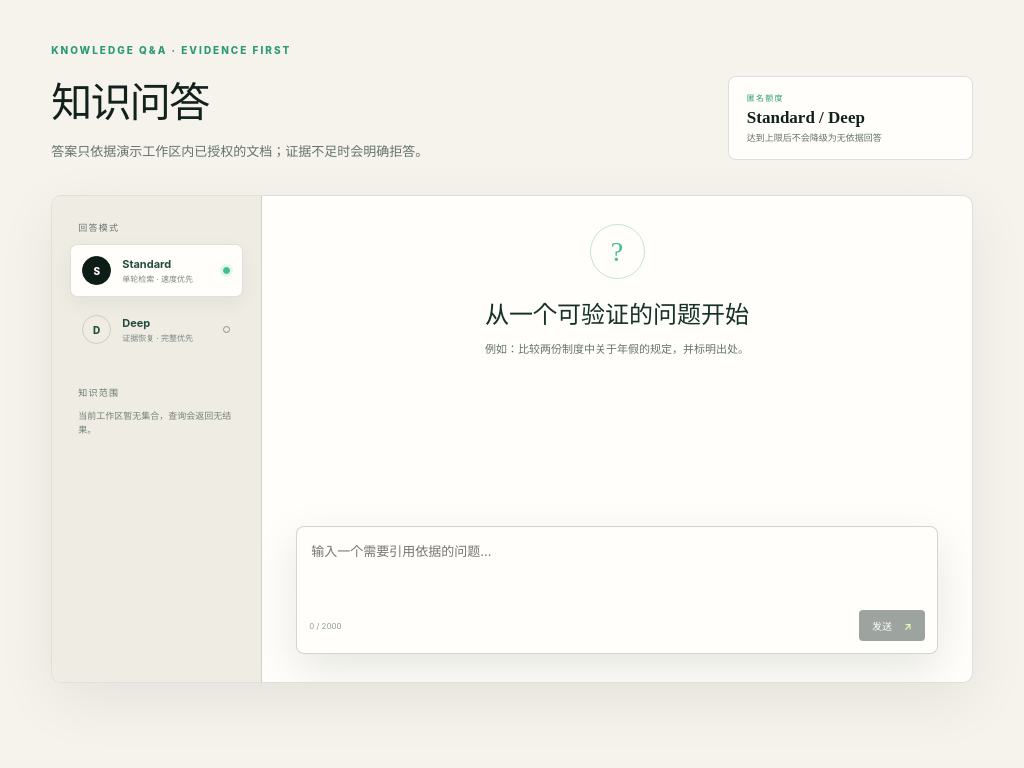
Test case: public chat browser states › aborts once and does not reconnect after the user stops a stream
The image size is (1024, 768).
Type "停止测试" into the text box with placeholder "输入一个需要引用依据的问题…" at (617, 572), box [309,539,925,605]
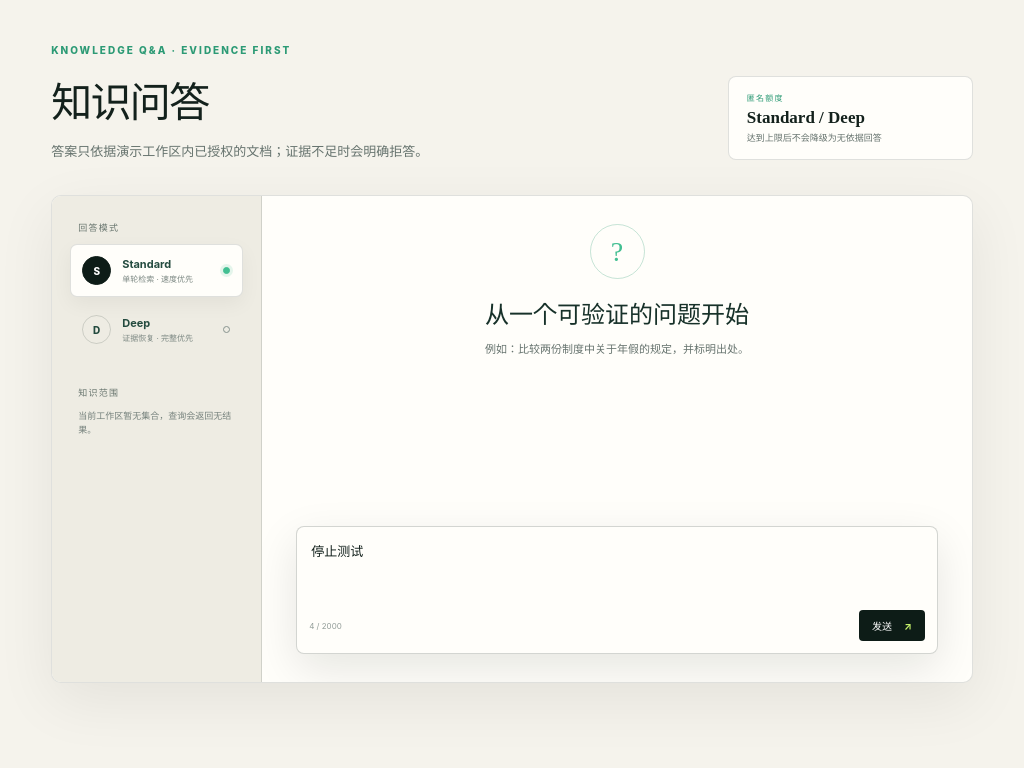
Submit the form, box [296,526,938,654]
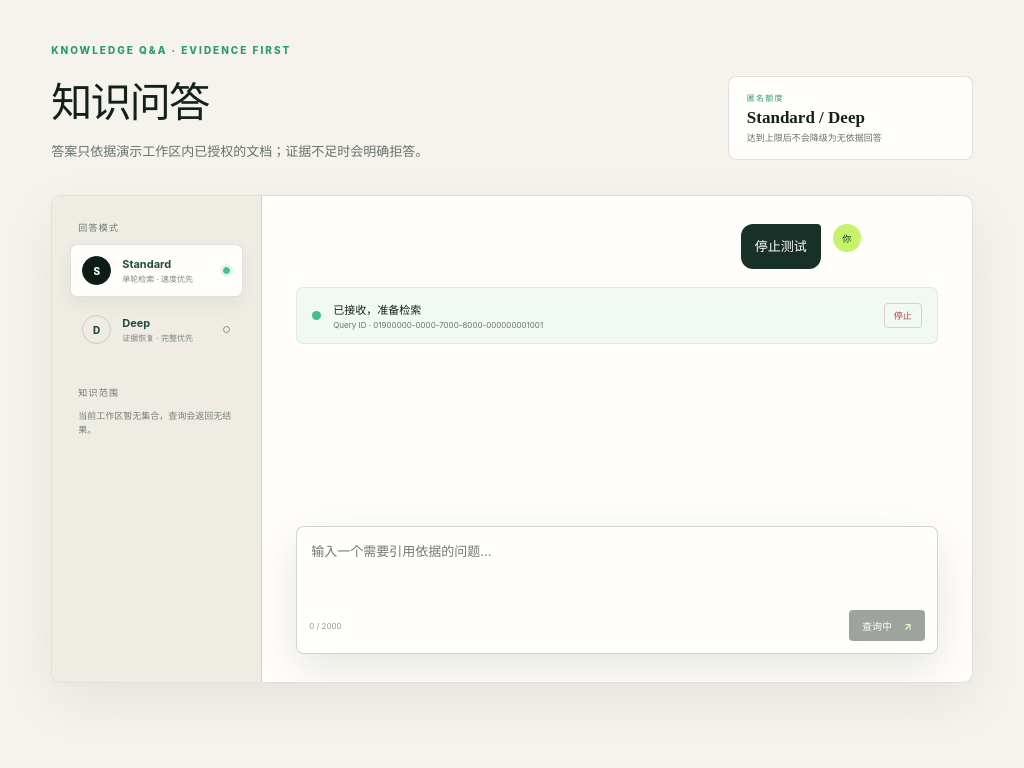
Click the button "停止" at (903, 315), box [884,303,922,328]
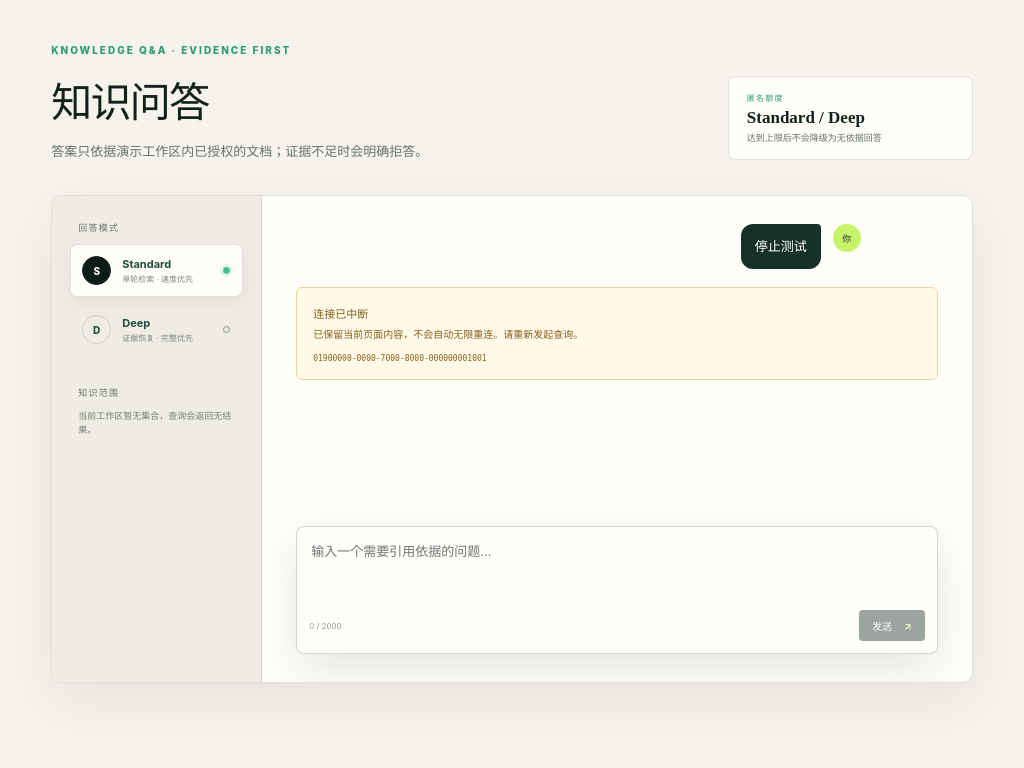
expect the text "01900000-0000-7000-8000-000000001001" is shown: met, box [313,354,487,363]
expect the message "连接已中断 已保留当前页面内容，不会自动无限重连。请重新发起查询。 01900000-0000-7000-8000-000000001001" is shown: met, box [296,287,938,380]
